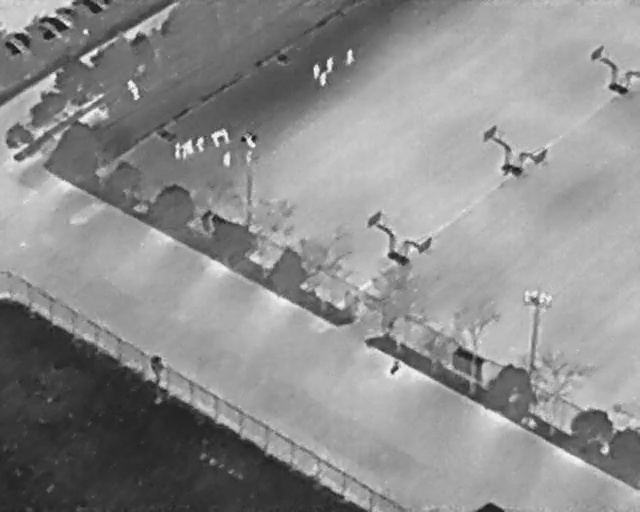Bicycle: (386, 357, 404, 377)
Car: (36, 8, 71, 39), (27, 17, 57, 45), (10, 25, 36, 50), (0, 36, 24, 60), (70, 0, 104, 14), (52, 3, 74, 19)
Person: (207, 130, 226, 150), (217, 126, 233, 145), (344, 47, 355, 66), (318, 69, 328, 87), (173, 142, 183, 160), (325, 56, 335, 73), (195, 137, 206, 151), (186, 138, 195, 155), (312, 63, 320, 80), (223, 152, 232, 167), (181, 143, 188, 160)
